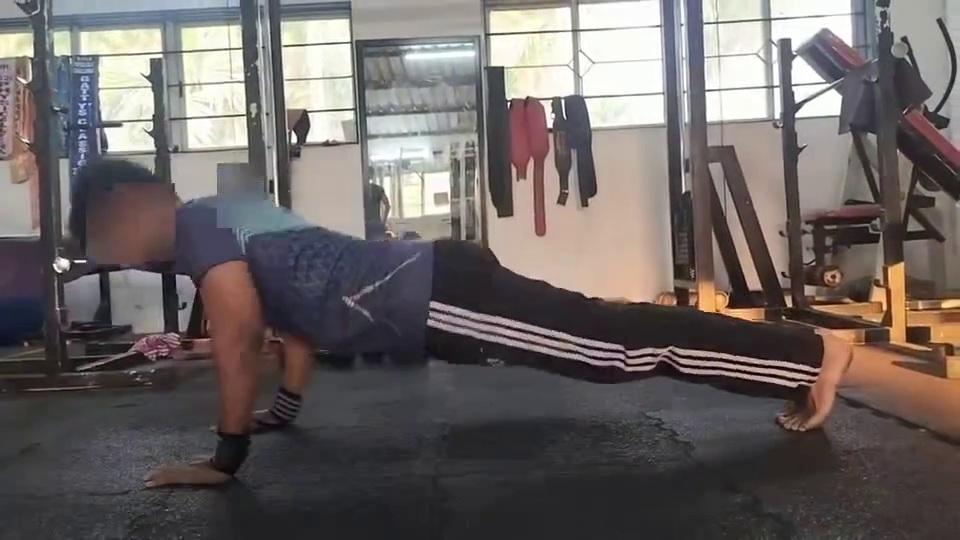push_up_correct: (64, 168, 861, 540)
